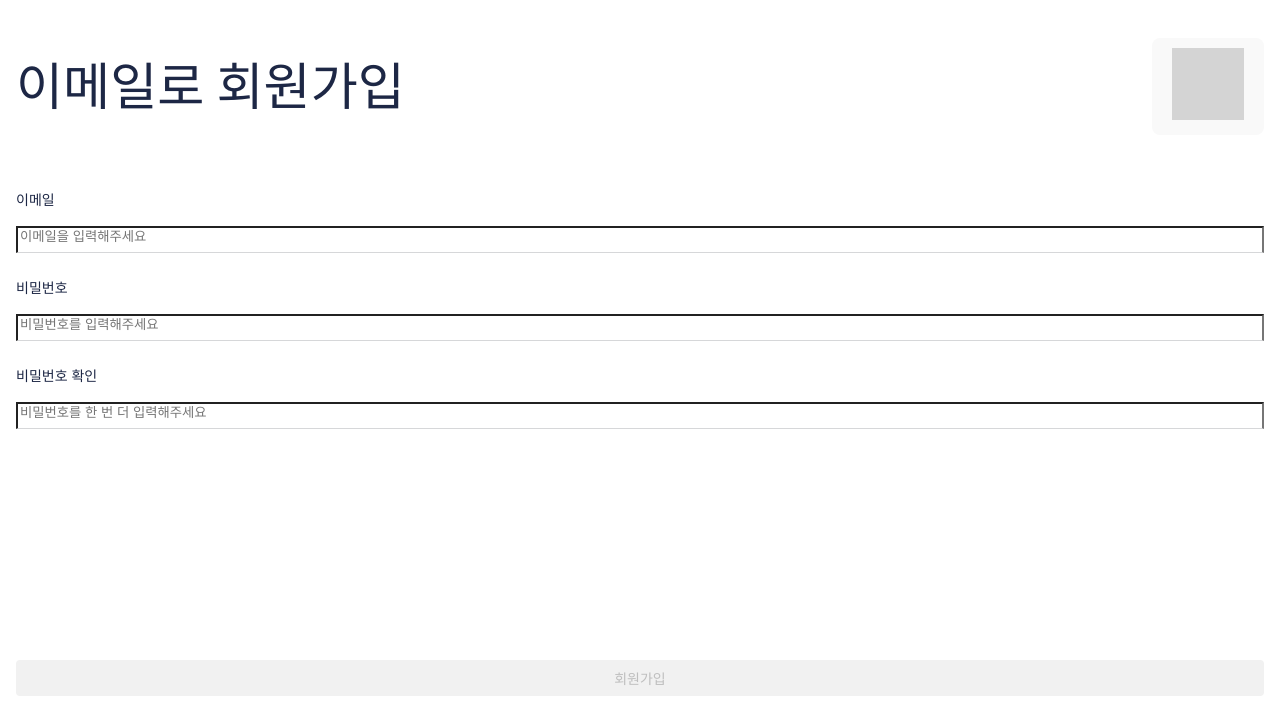
Scenario: 회원가입 테스트 › 이메일을 입력하고, 비밀번호와 비밀번호 확인값이 잉ㄹ치하면 회원가입 버튼이 활성화된다.
Expected: the button "회원가입" is disabled, [16,660,1264,696]
In the field labelled "이메일": (640, 239) [16,226,1264,253], type "jerry@naver.com"
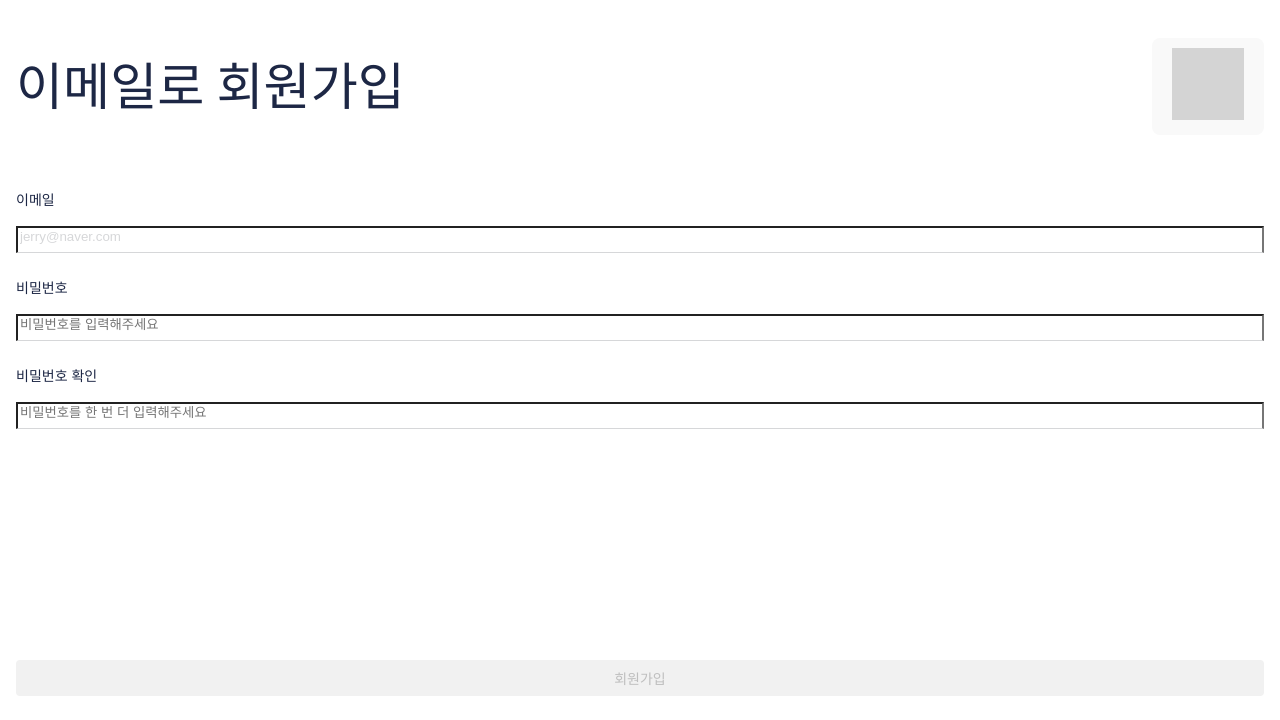
In the password field labelled "비밀번호": (640, 327) [16,314,1264,341], type "password"
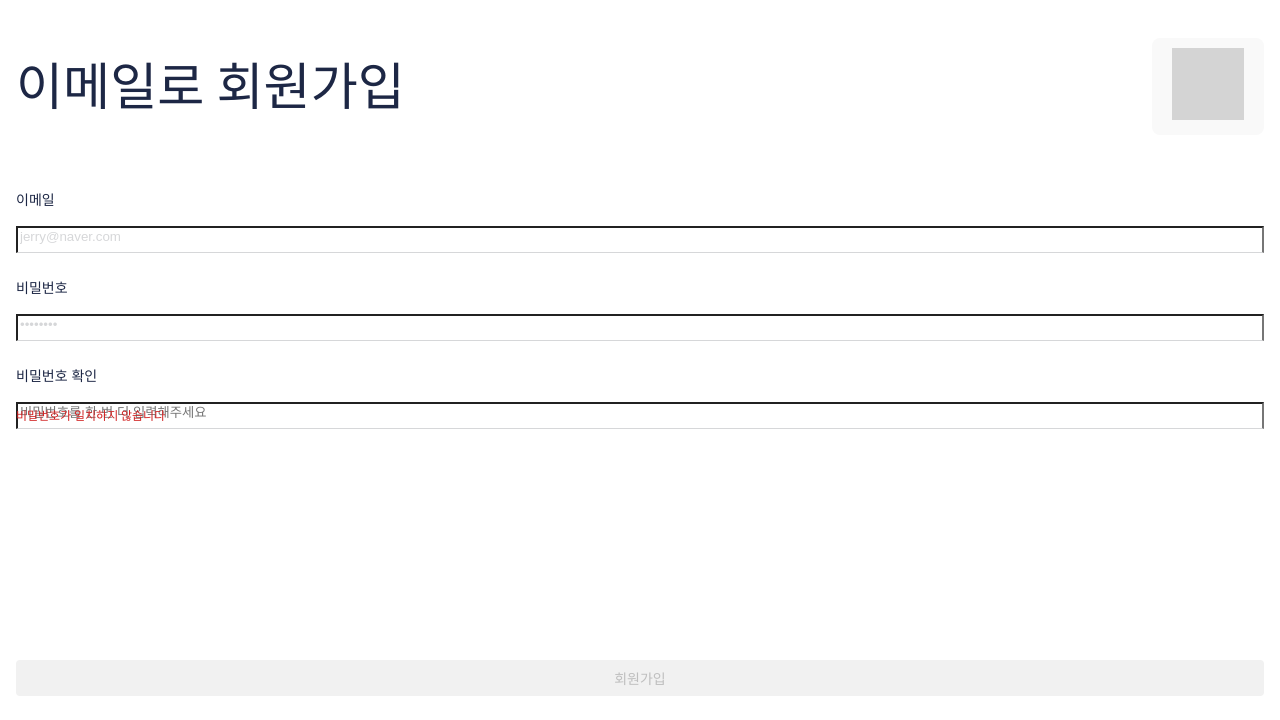
In the password field labelled "비밀번호 확인": (640, 415) [16,402,1264,429], type "password"
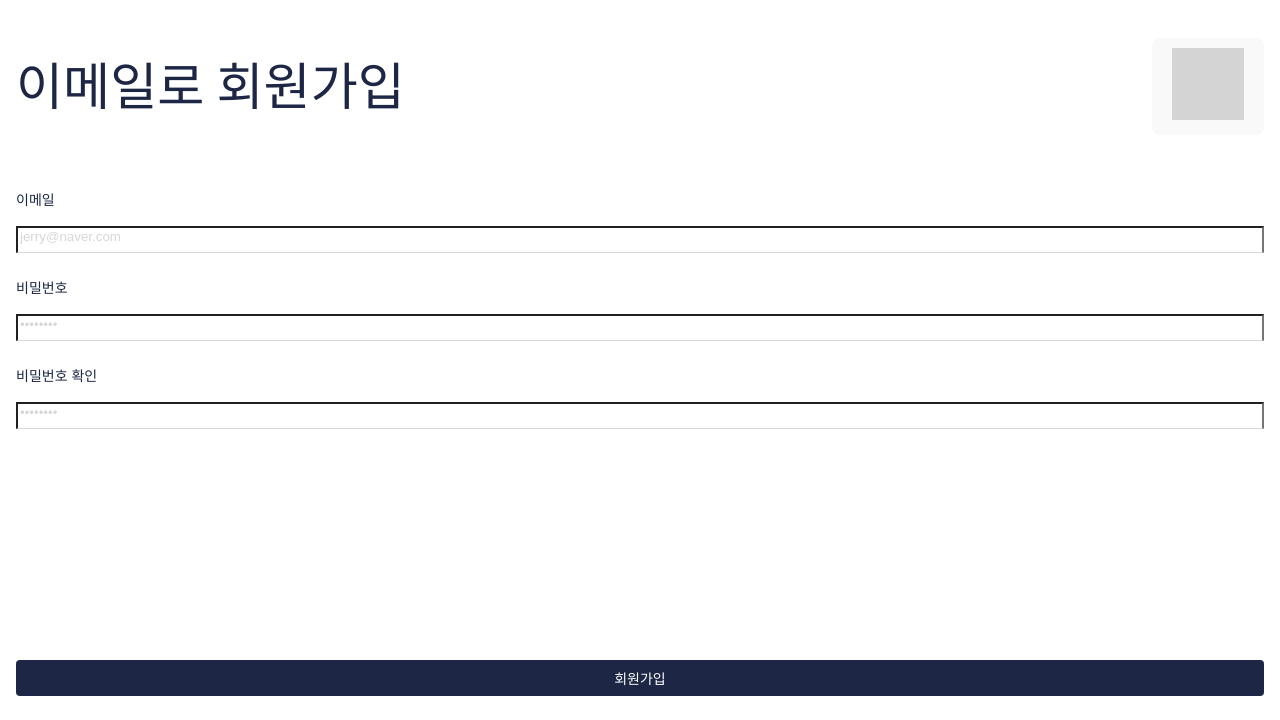
Now the button "회원가입" is enabled, box [16,660,1264,696]
